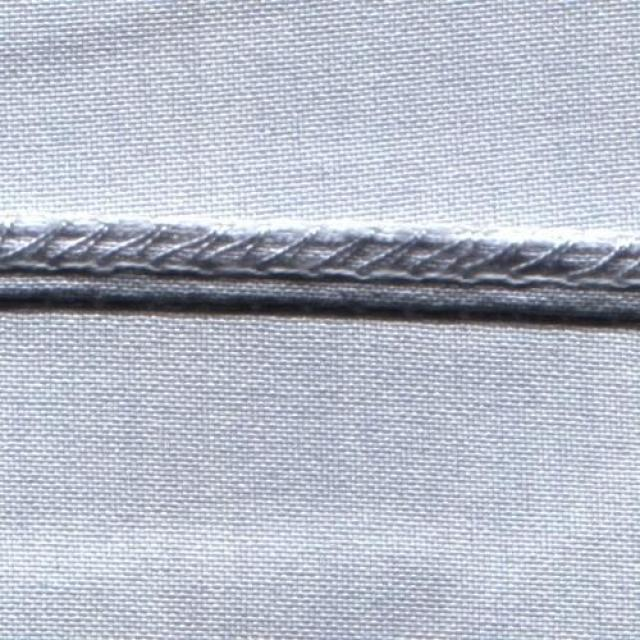gray stitch: (2, 212, 640, 344)
